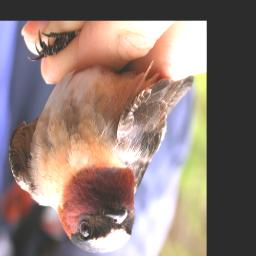Swallow: (10, 30, 193, 253)
